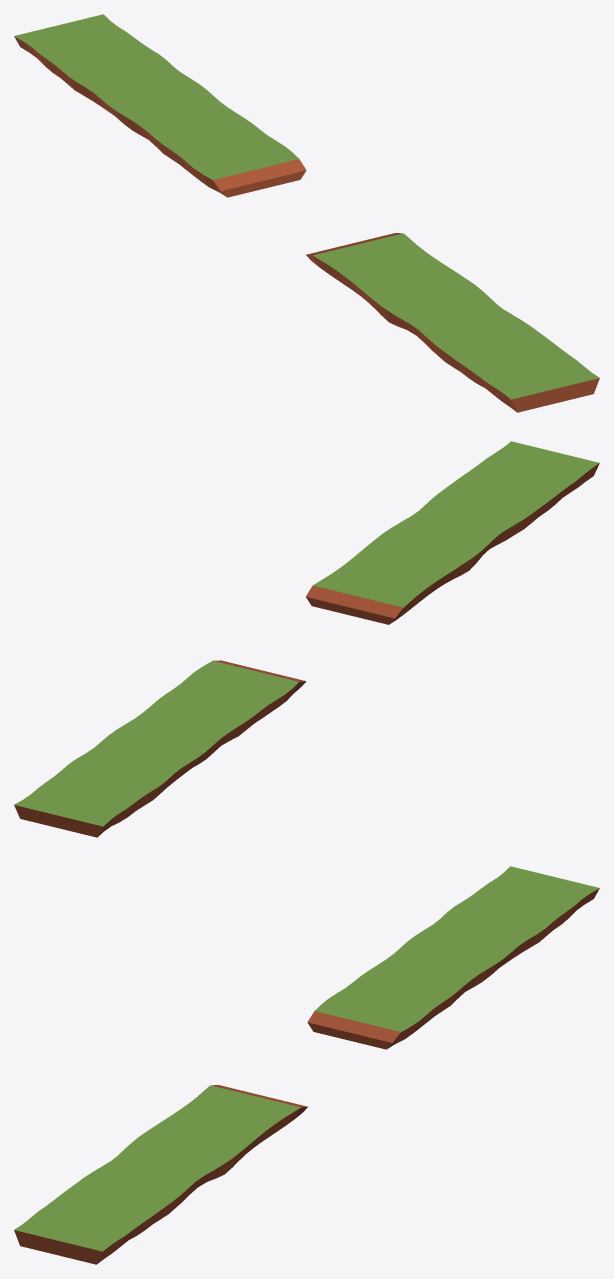
Rendered from ponte_f.glb.
3 renders of one model, top to bottom at view 1: azimuth 30°, elevation 25°; view 2: azimuth 150°, elevation 25°; view 3: azimuth 330°, elevation 25°, orthographic.
Parts seen in each view (by area): view 1: ponte_f; view 2: ponte_f; view 3: ponte_f.
Boxes of the visible parts, x1,y1,x2,y2 form: ponte_f: [14, 14, 599, 412]; ponte_f: [14, 441, 599, 837]; ponte_f: [14, 866, 599, 1264].
Size of the model in its own units: 27.15 by 4.64 by 253.
